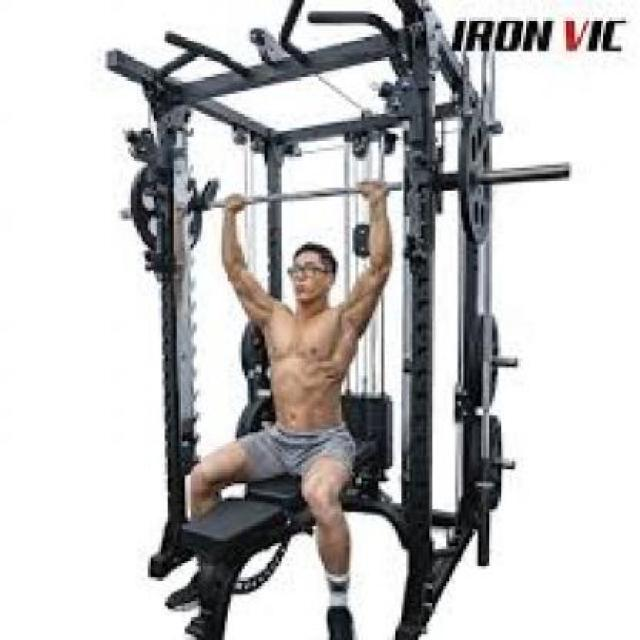smith machine: (104, 63, 524, 612)
